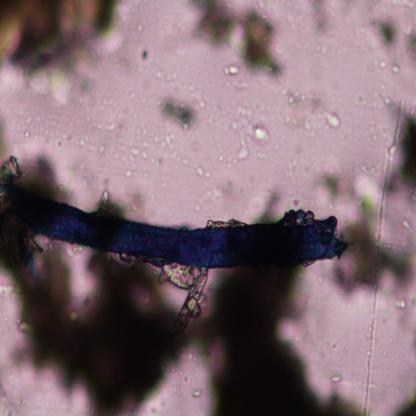Background material: (0, 241, 202, 414), (202, 266, 365, 414), (0, 0, 126, 102), (332, 218, 416, 305), (191, 1, 285, 78), (312, 159, 386, 224), (380, 99, 416, 203), (286, 90, 344, 130), (236, 107, 268, 159), (158, 96, 198, 137), (369, 14, 403, 52), (306, 0, 336, 42), (121, 177, 148, 216), (145, 62, 179, 86), (190, 155, 219, 182), (392, 385, 416, 416), (401, 17, 416, 57), (135, 130, 150, 163), (95, 117, 118, 135), (376, 61, 401, 74), (138, 44, 153, 63), (190, 384, 205, 402), (74, 129, 86, 151), (21, 123, 32, 140), (93, 141, 106, 155), (328, 372, 341, 385), (136, 20, 147, 33)
Cotton: (0, 171, 349, 267)
